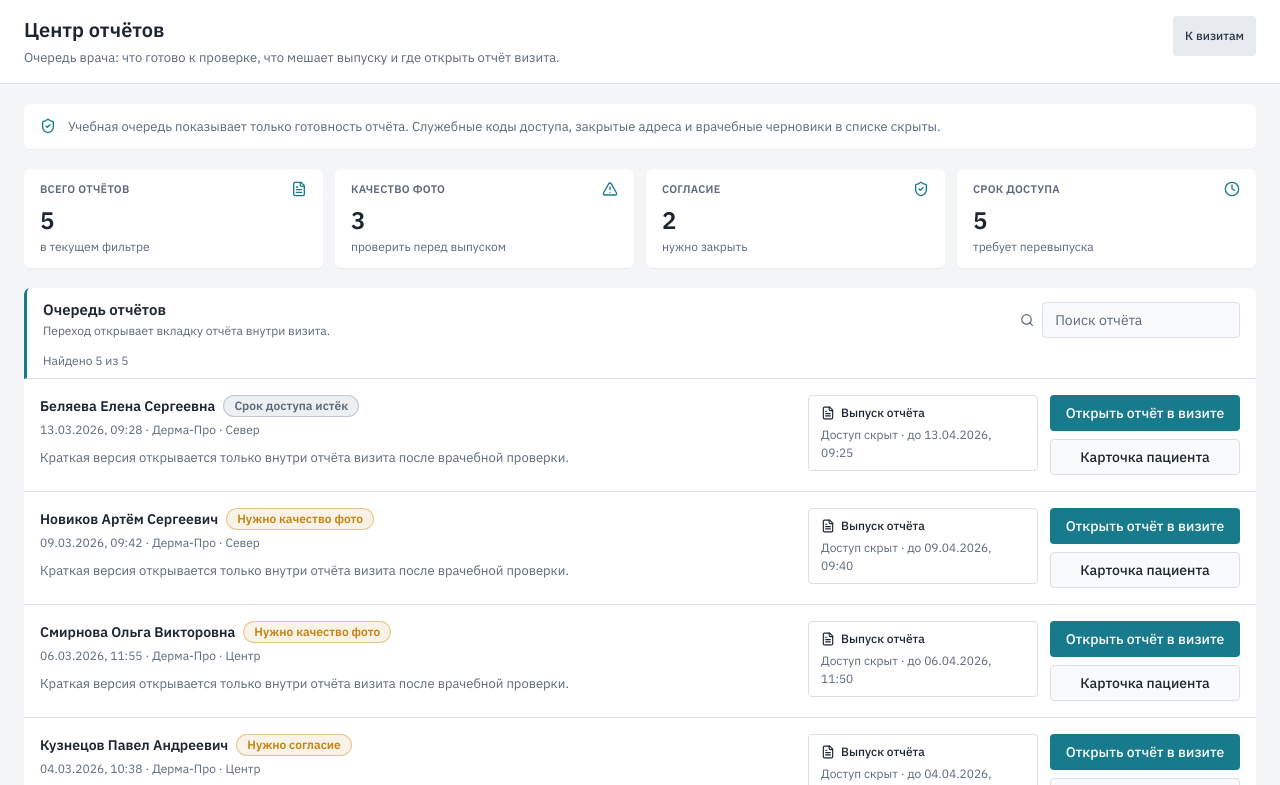
Test case: DoctorReportsPage › filters reports by patient or clinic text
The width and height of the screenshot is (1280, 785).
Type "Новиков" into the search field labelled "Поиск отчёта" at x=1141, y=320, box x1=1042 y1=302 x2=1240 y2=338
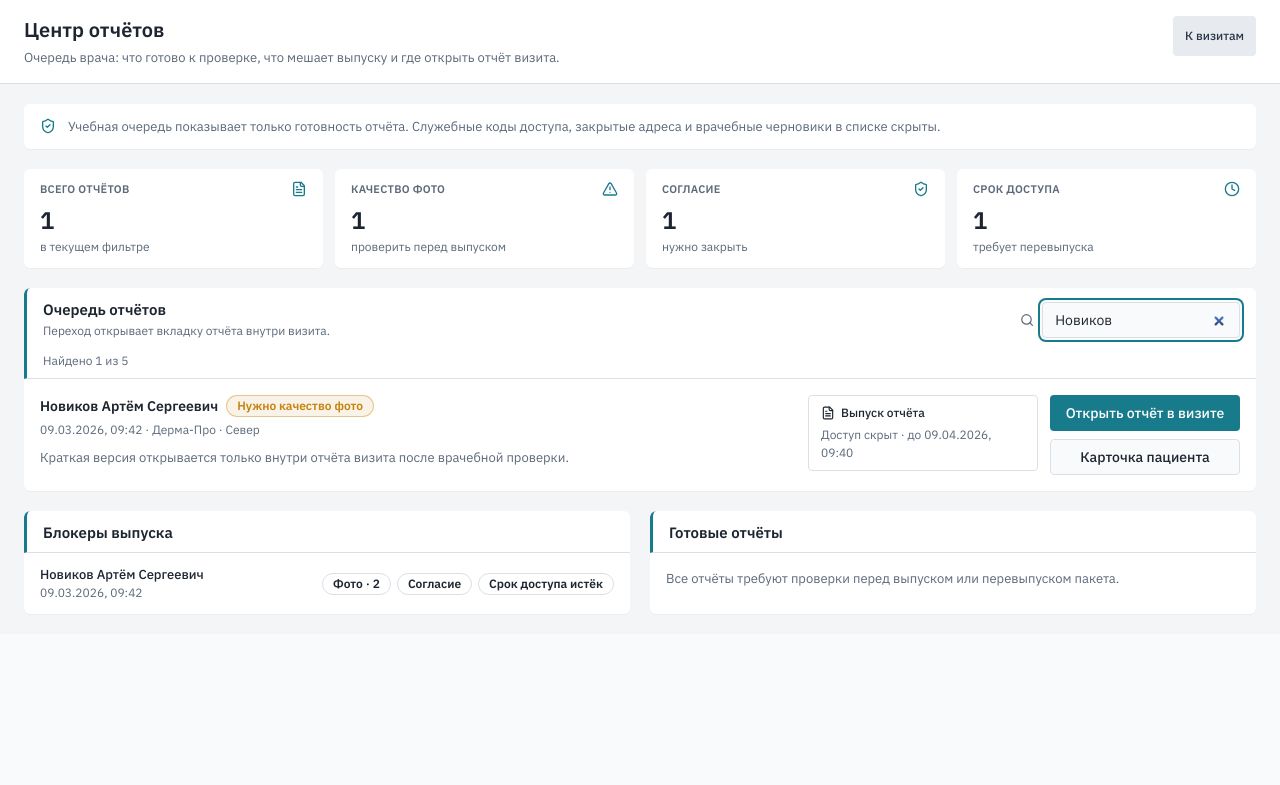
Expected: the text "Новиков Артём Сергеевич" next to "Нужно качество фото" is shown, x1=40 y1=397 x2=218 y2=415
Now the message named "Сводка фильтра отчётов" reads "Найдено 1 из 5", box x1=43 y1=353 x2=128 y2=368
